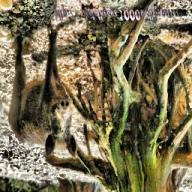boar: (8, 29, 77, 159)
